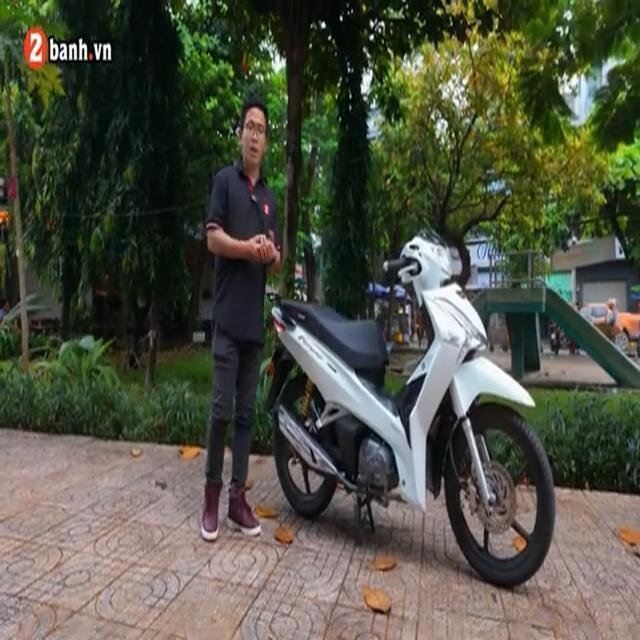motorcycle: (258, 219, 575, 593)
